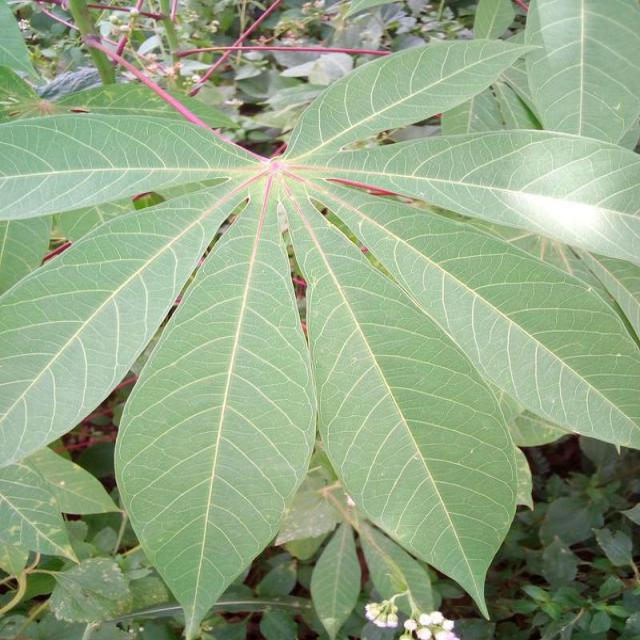cassava leaf: (1, 1, 638, 636), (279, 170, 526, 620), (112, 184, 318, 638)
